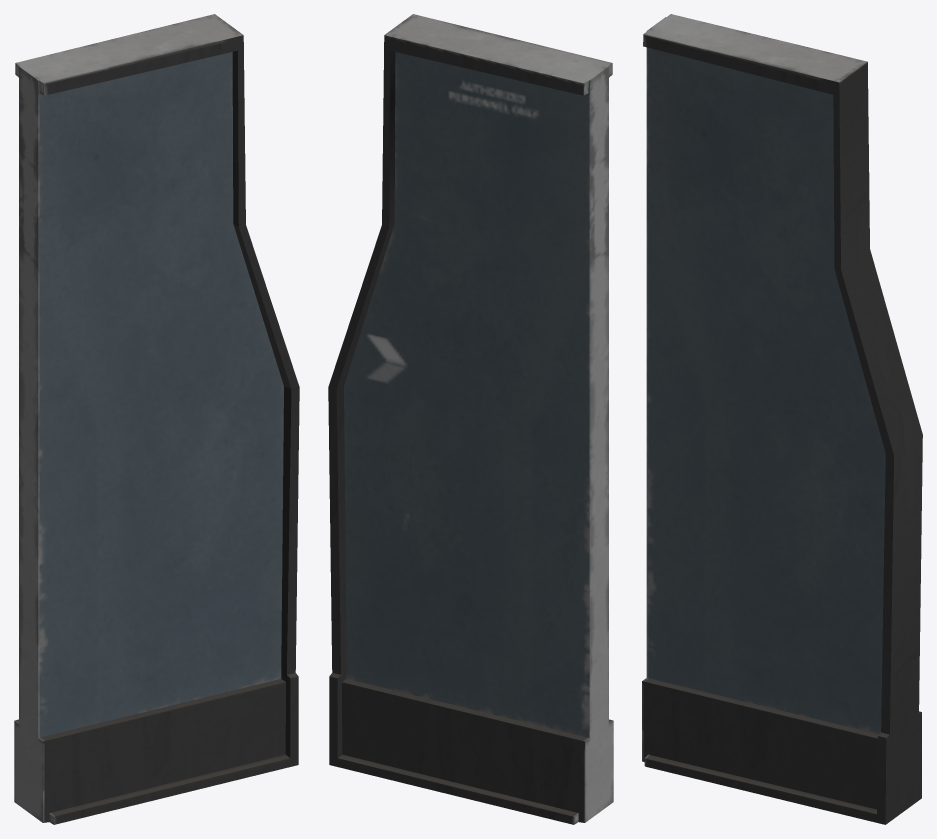
File: SM_Door_02.fbx
3 renders of one model, left to right at view 1: azimuth 30°, elevation 25°; view 2: azimuth 150°, elevation 25°; view 3: azimuth 330°, elevation 25°, orthographic.
Parts seen in each view (by area): view 1: SM_Door_02_LOD0; view 2: SM_Door_02_LOD0; view 3: SM_Door_02_LOD0.
Boxes of the visible parts, left/top/right/bottom form: SM_Door_02_LOD0: left=14, top=14, right=299, bottom=824; SM_Door_02_LOD0: left=328, top=14, right=613, bottom=824; SM_Door_02_LOD0: left=642, top=14, right=922, bottom=824.
Size of the model in its own units: 80.09 by 20.18 by 221.
